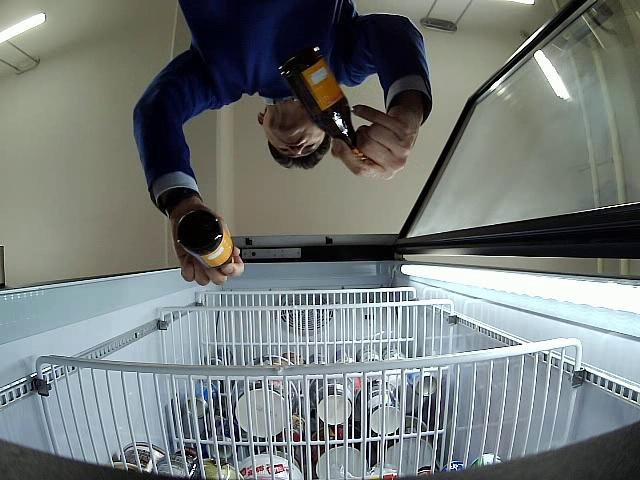00_hand: (332, 104, 421, 184), (171, 212, 247, 285)
17_vita500: (282, 48, 359, 148), (177, 212, 232, 269)
